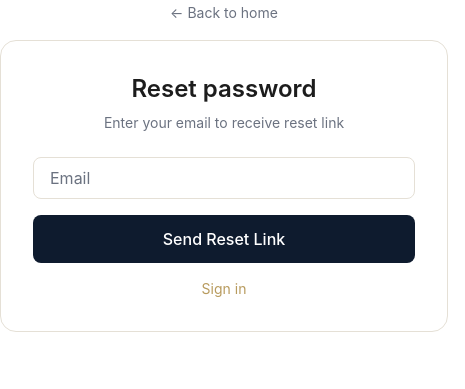
Scenario: ForgotPasswordForm › clears error on email change
Step 1. Click the button "Send Reset Link" → (224, 239), box x1=33 y1=215 x2=415 y2=263
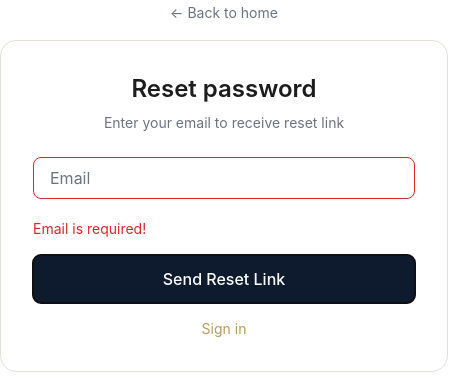
Expected: the text "Email is required!" is shown, x1=33 y1=220 x2=146 y2=237
Step 2. Type "test@test.com" into the field with placeholder "Email" → (224, 178), box x1=33 y1=157 x2=415 y2=199
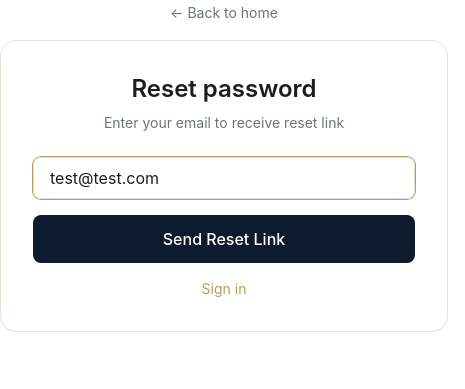
Expected: the text "Email is required!" is gone
